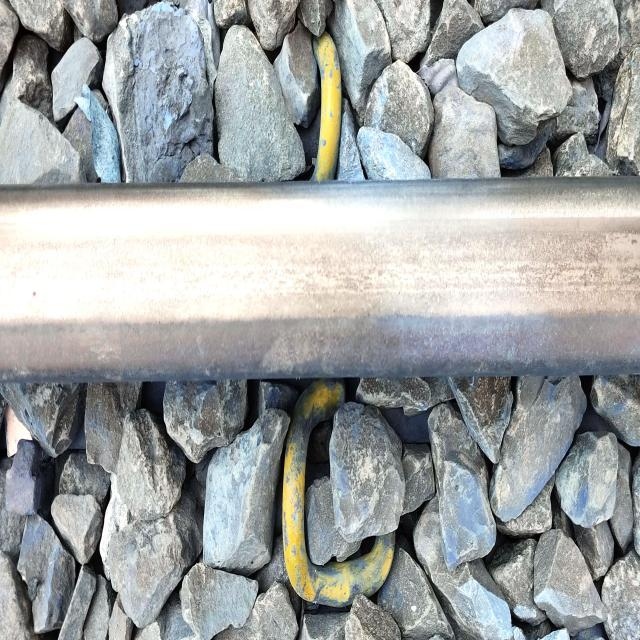Good Fasteners: (282, 379, 394, 605), (312, 31, 342, 181)
